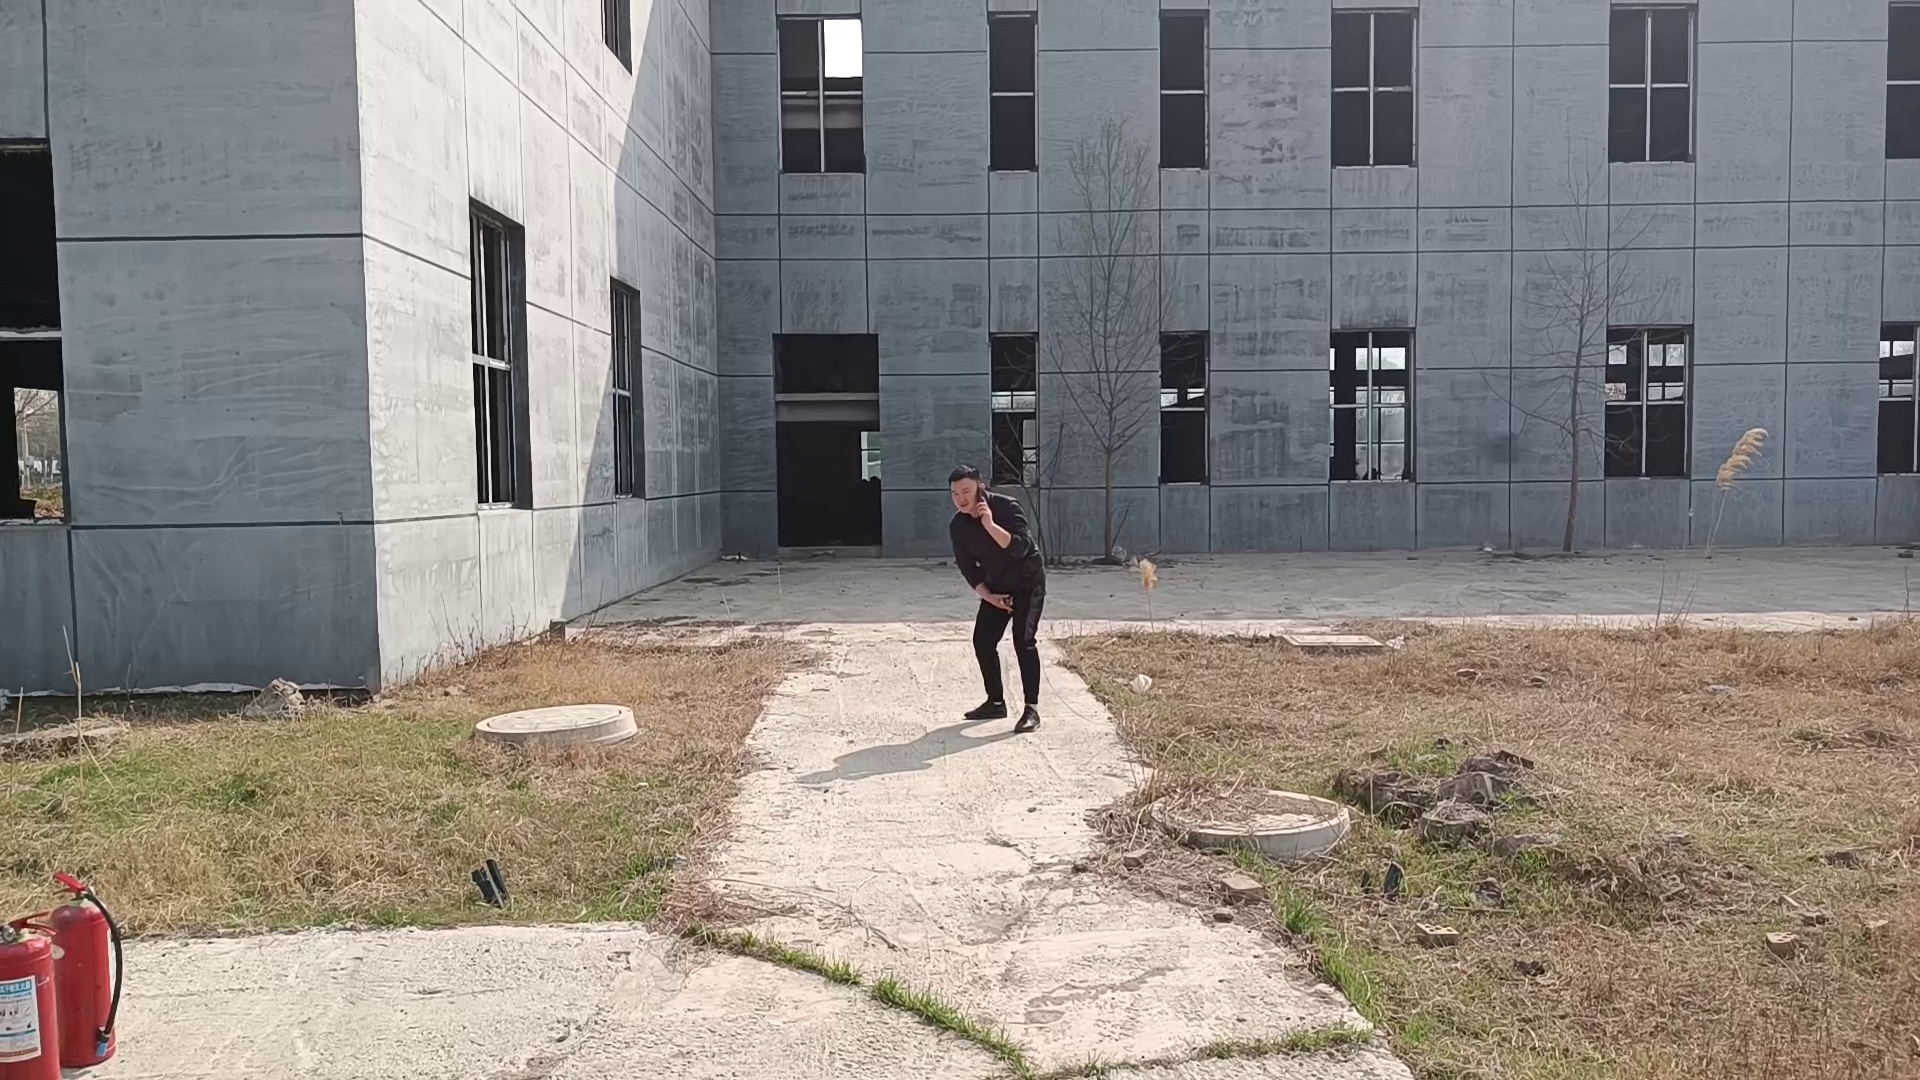phone: (945, 465, 997, 520)
